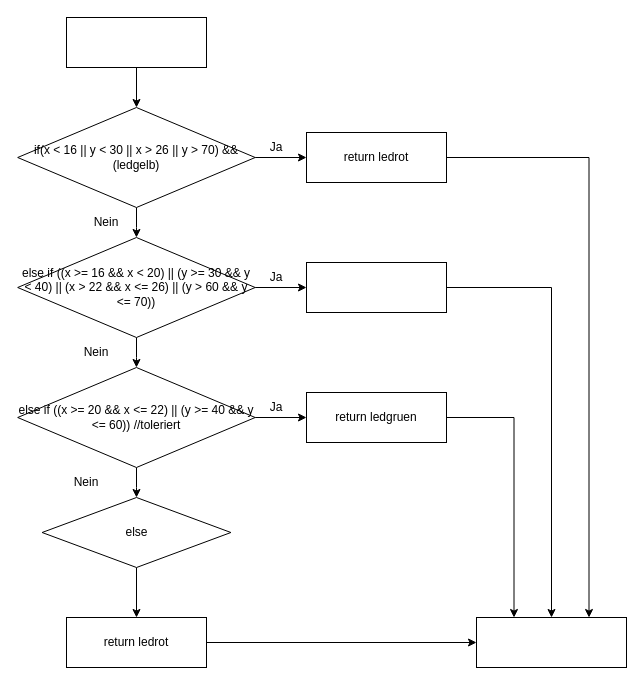
Image size: 644x685. Some labels were removed from this diagram. Each missing label, with the centre of its shape:
"checkhumidandtemp()" belongs at point (136, 42).
"return ledgelb" belongs at point (376, 287).
"Rückgabewert" belongs at point (551, 642).
